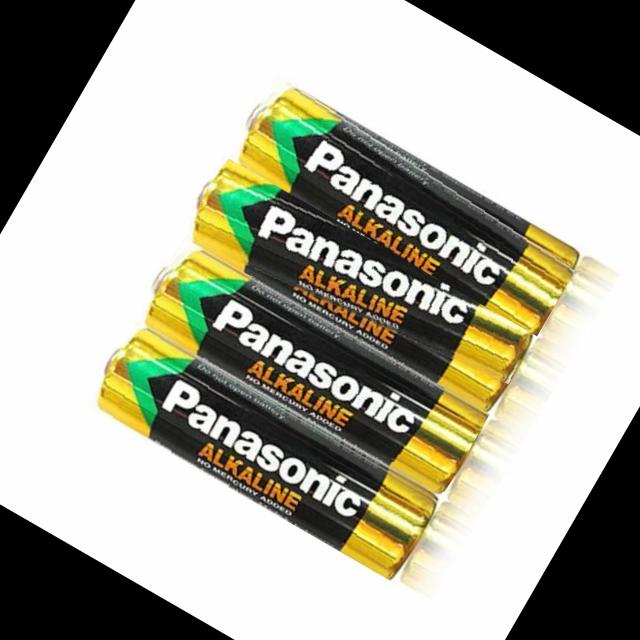Hazard: (224, 70, 586, 336), (82, 316, 443, 582), (177, 151, 538, 414), (130, 234, 490, 497)
